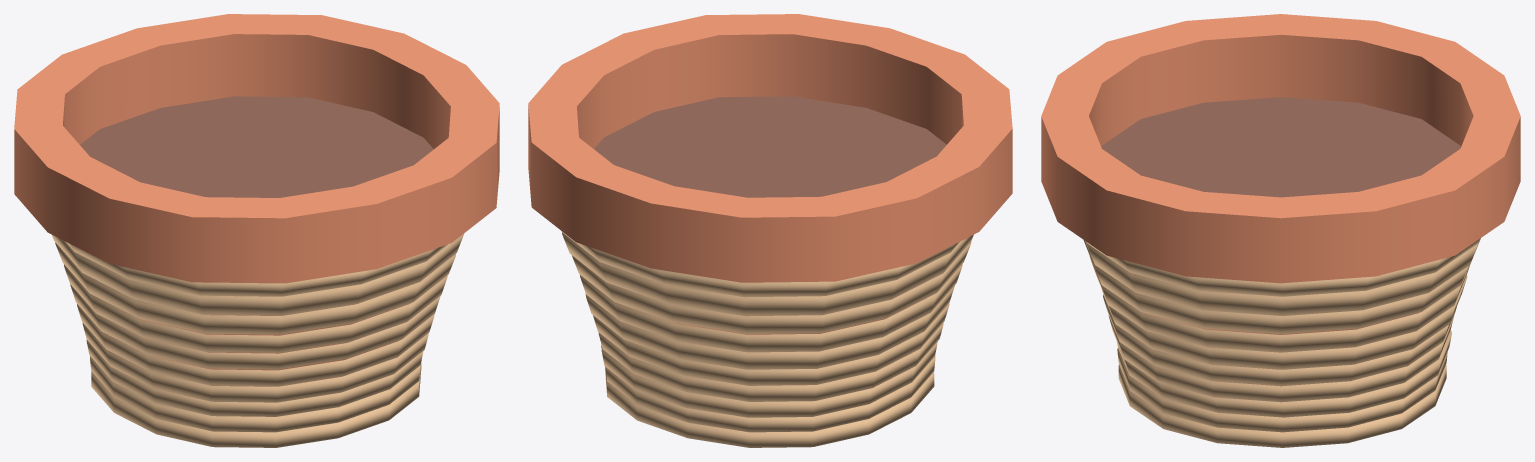
File: pot.fbx
The picture shows the model from 3 angles, left to right: view 1: azimuth 30°, elevation 25°; view 2: azimuth 150°, elevation 25°; view 3: azimuth 270°, elevation 25°; orthographic projection.
Parts seen in each view (by area): view 1: 4-bis.001; view 2: 4-bis.001; view 3: 4-bis.001.
Part boxes in pixels (x1=…): 4-bis.001: x1=14, y1=14, x2=499, y2=447; 4-bis.001: x1=528, y1=14, x2=1012, y2=447; 4-bis.001: x1=1041, y1=14, x2=1520, y2=447.
Bounding box in the file's own units: 298 × 179 × 296.
